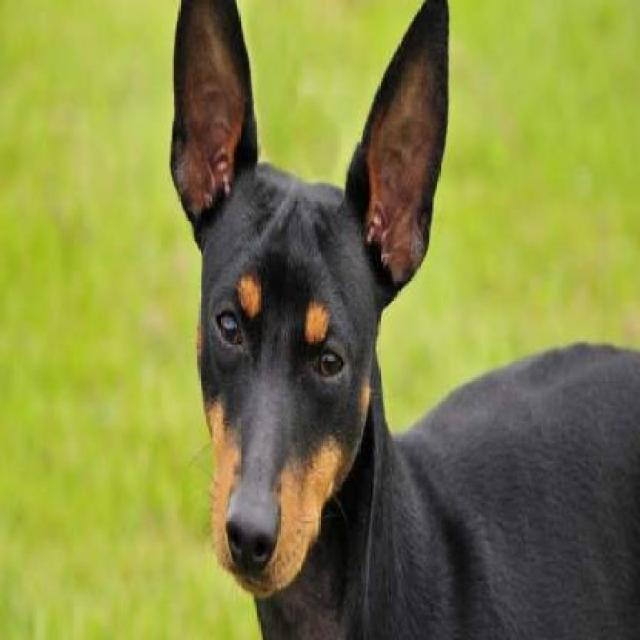animals: (114, 11, 640, 640)
